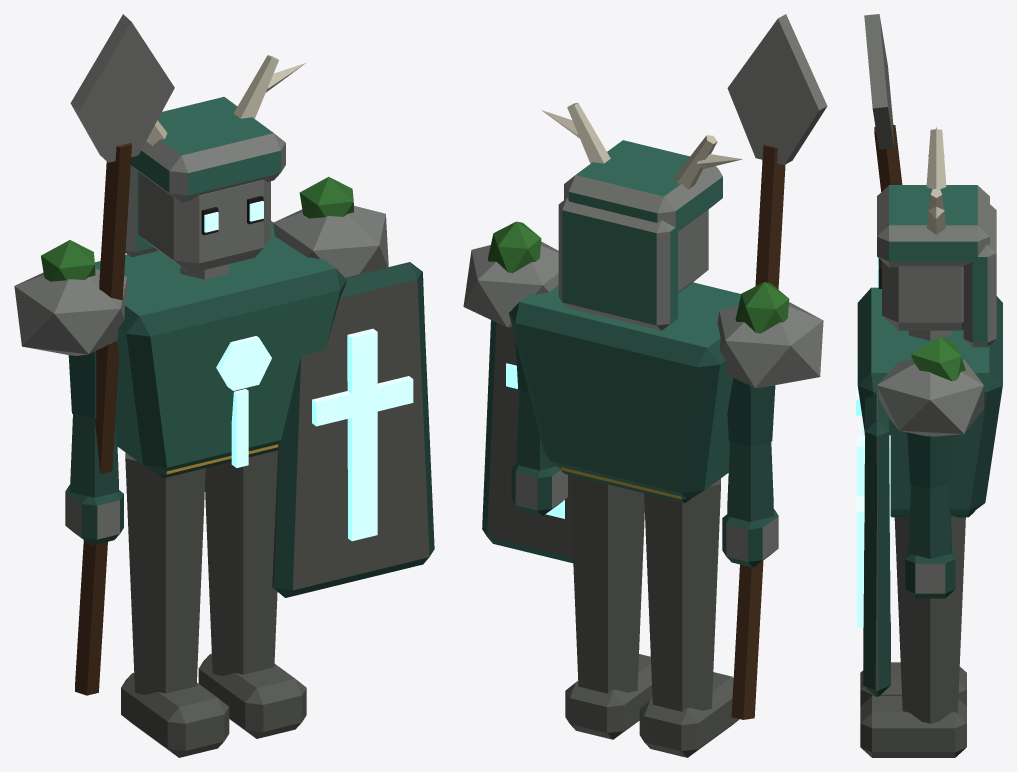
Rendered from ancient_warden.glb.
3 views of the same model, side by side, from view 1: azimuth 30°, elevation 25°; view 2: azimuth 150°, elevation 25°; view 3: azimuth 270°, elevation 25° (orthographic). The views are drawn at different scales.
Visible parts, largest first — view 1: torso, arm_l, arm_r, head, leg_r, leg_l; view 2: torso, head, arm_r, leg_r, leg_l, arm_l; view 3: torso, head, arm_l, leg_l, arm_r, leg_r.
Part boxes in pixels (x1=…): torso: x1=14, y1=176, x2=388, y2=478; arm_l: x1=272, y1=262, x2=434, y2=597; arm_r: x1=65, y1=14, x2=174, y2=695; head: x1=125, y1=55, x2=306, y2=273; leg_r: x1=121, y1=452, x2=229, y2=757; leg_l: x1=198, y1=450, x2=306, y2=738; torso: x1=463, y1=221, x2=823, y2=503; head: x1=541, y1=102, x2=742, y2=330; arm_r: x1=722, y1=14, x2=827, y2=719; leg_r: x1=639, y1=478, x2=739, y2=757; leg_l: x1=565, y1=475, x2=652, y2=739; arm_l: x1=482, y1=320, x2=573, y2=563; torso: x1=856, y1=287, x2=1002, y2=517; head: x1=876, y1=127, x2=996, y2=347; arm_l: x1=856, y1=391, x2=955, y2=696; leg_l: x1=860, y1=515, x2=966, y2=757; arm_r: x1=864, y1=14, x2=902, y2=191; leg_r: x1=860, y1=662, x2=966, y2=705.
Bounding box in the file's own units: 1.28 × 2.4 × 0.4768.
